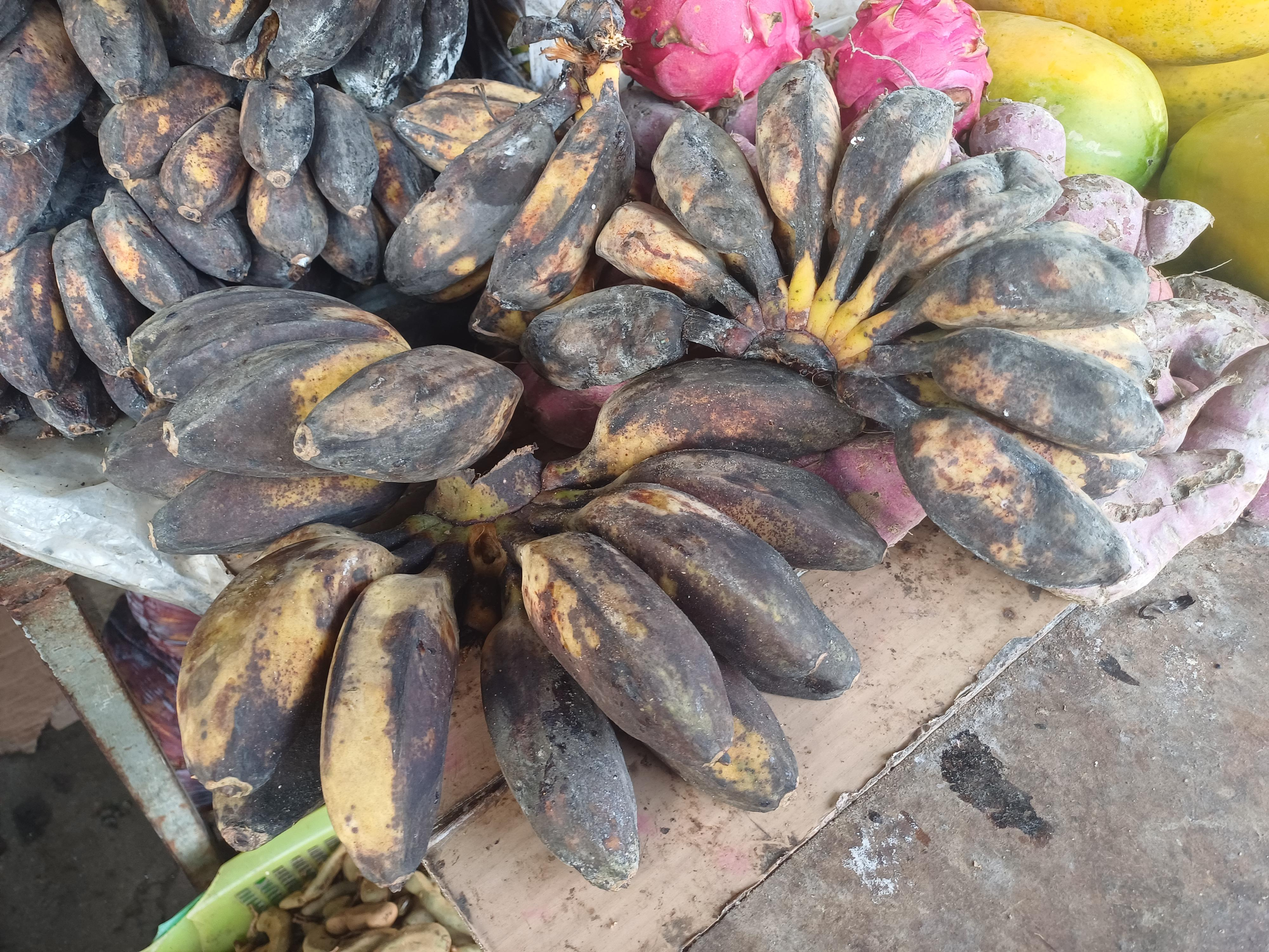overripe: (175, 355, 887, 888), (518, 60, 1166, 587), (0, 0, 470, 255), (98, 288, 524, 557), (0, 175, 313, 437), (93, 62, 435, 288), (386, 103, 634, 311)
